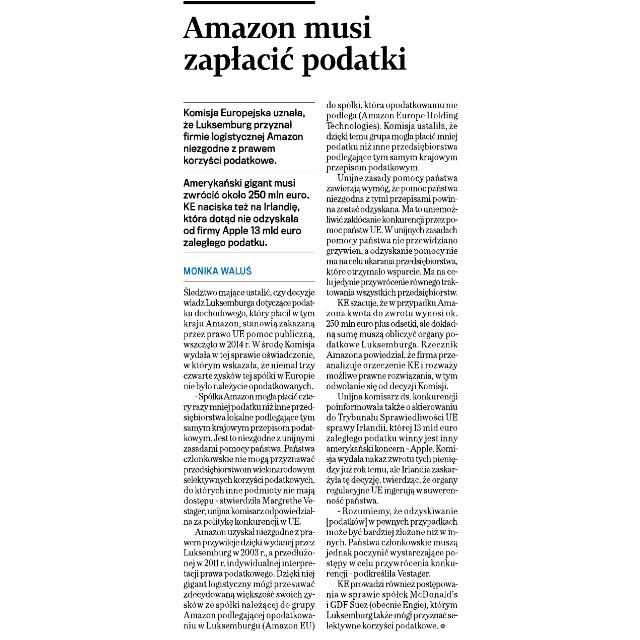author: (180, 261, 256, 279)
body: (322, 99, 460, 633), (180, 284, 318, 634)
lead: (179, 105, 311, 249)
title: (179, 10, 419, 80)
